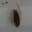cockroach: (13, 9, 20, 28)
